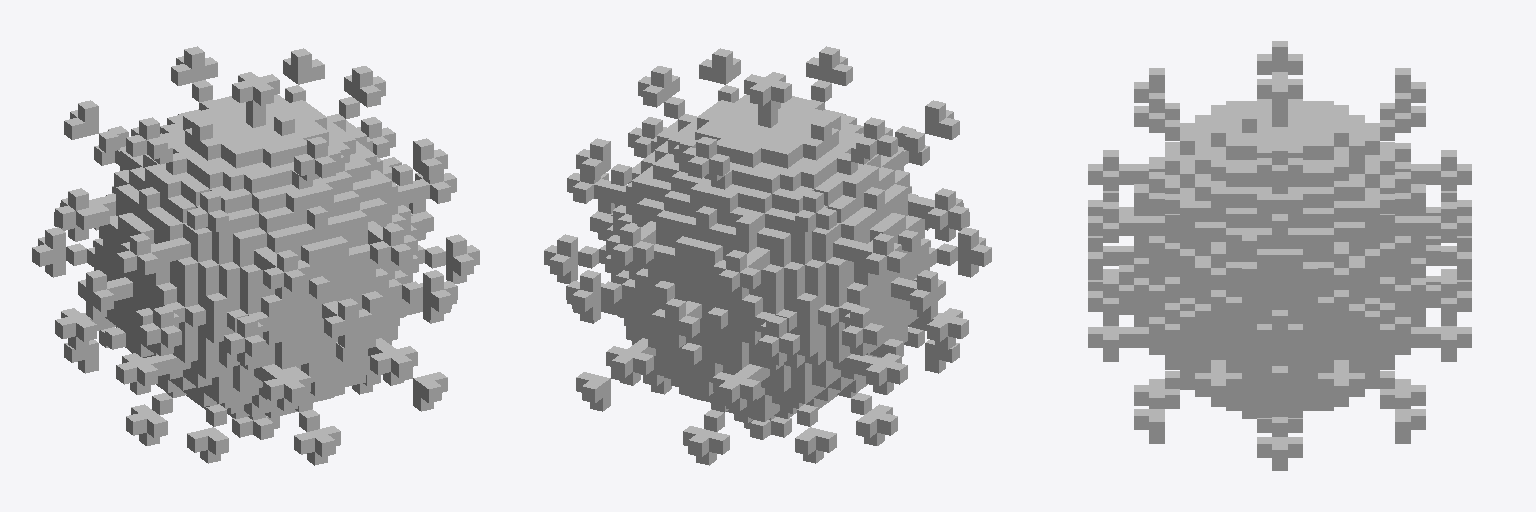
Rendered from coronavirus_1.obj.
The picture shows the model from 3 angles: view 1: azimuth 30°, elevation 25°; view 2: azimuth 150°, elevation 25°; view 3: azimuth 270°, elevation 25°; orthographic projection.
Visible parts, largest first — view 1: coronavirus_1.003_coronavirus_1.003; view 2: coronavirus_1.003_coronavirus_1.003; view 3: coronavirus_1.003_coronavirus_1.003.
Boxes of the visible parts, box(x1,y1,x2,y2) form: coronavirus_1.003_coronavirus_1.003: box(32, 46, 479, 465); coronavirus_1.003_coronavirus_1.003: box(544, 46, 991, 465); coronavirus_1.003_coronavirus_1.003: box(1088, 41, 1471, 470).
Size of the model in its own units: 25 by 25 by 25.